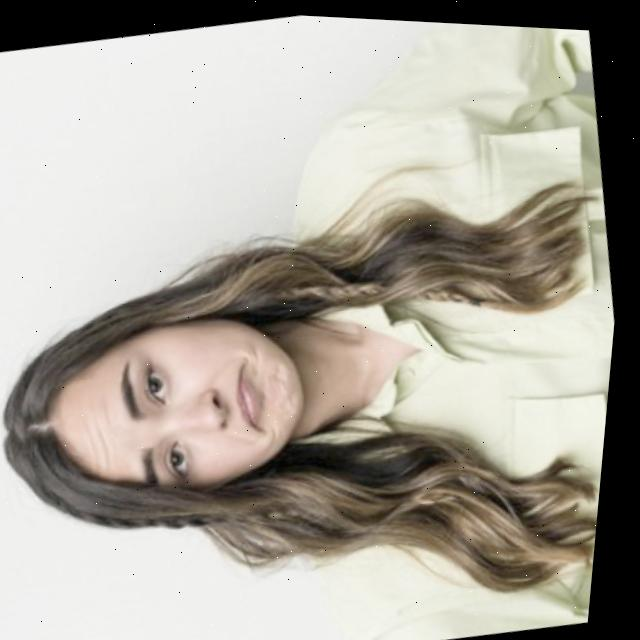sad: (0, 269, 326, 532)
